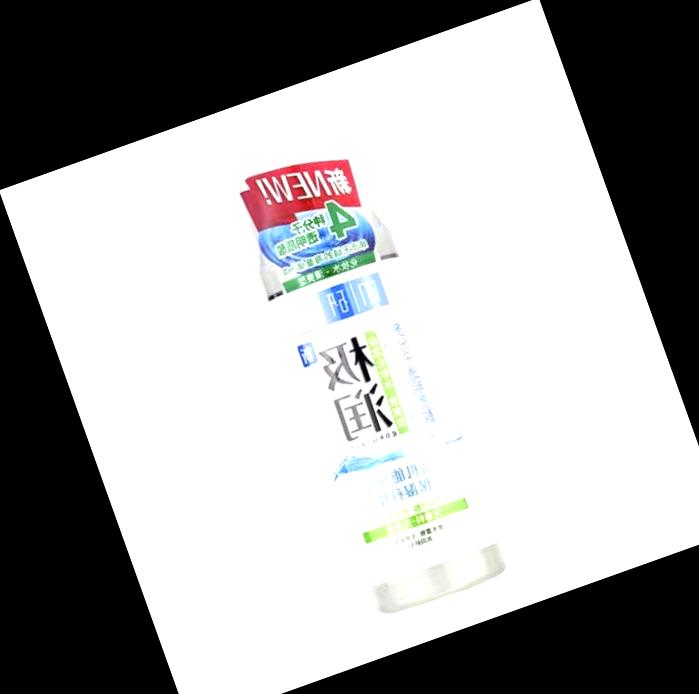cosmetic: (222, 115, 509, 609)
